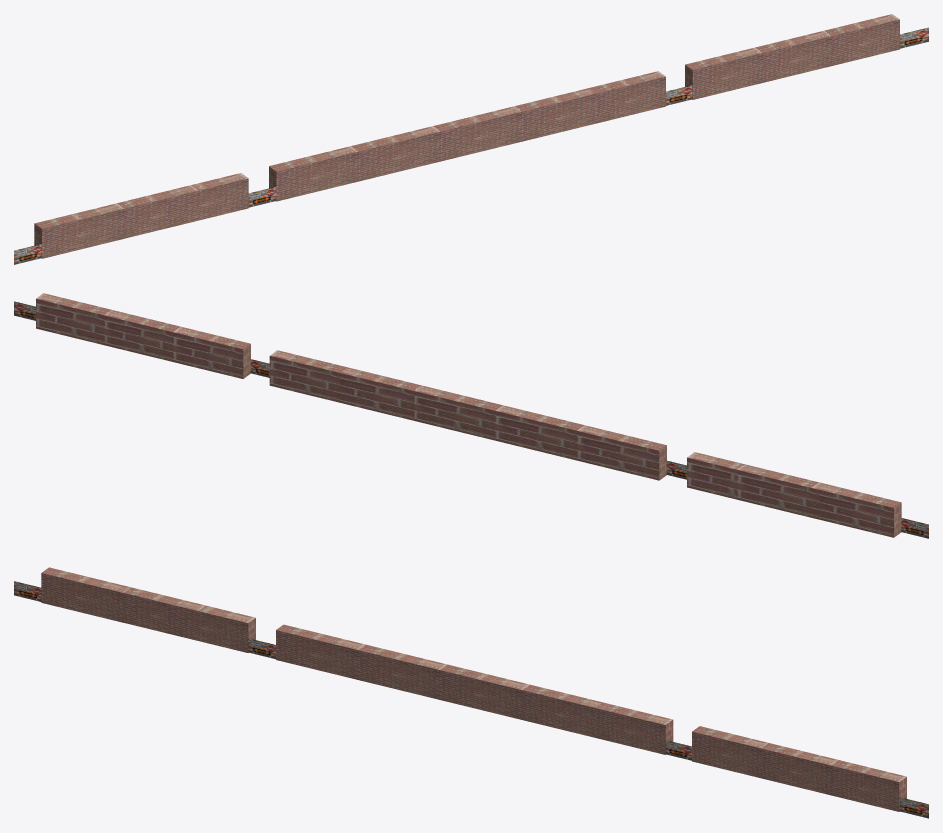
File: wall4.fbx
3 renders of one model, top to bottom at view 1: azimuth 30°, elevation 25°; view 2: azimuth 150°, elevation 25°; view 3: azimuth 330°, elevation 25°, orthographic.
Parts seen in each view (by area): view 1: pCube77, pCube80, pCube81, pCube82, pCube79, pCube83, pCube85, pCube84, pCube86, pCube87, pCube78; view 2: pCube80, pCube77, pCube81, pCube78, pCube82, pCube85, pCube83, pCube84, pCube86, pCube87, pCube79; view 3: pCube79, pCube80, pCube82, pCube77, pCube81, pCube83, pCube84, pCube87, pCube85, pCube86, pCube78.
Boxes of the visible parts, x1=… form: pCube77: x1=34, y1=203, x2=124, y2=258; pCube80: x1=269, y1=146, x2=358, y2=201; pCube81: x1=351, y1=126, x2=440, y2=181; pCube82: x1=433, y1=106, x2=522, y2=161; pCube79: x1=159, y1=173, x2=248, y2=228; pCube83: x1=514, y1=88, x2=595, y2=141; pCube85: x1=685, y1=47, x2=762, y2=99; pCube84: x1=588, y1=71, x2=665, y2=123; pCube86: x1=755, y1=30, x2=831, y2=82; pCube87: x1=824, y1=14, x2=899, y2=65; pCube78: x1=111, y1=185, x2=198, y2=238; pCube80: x1=576, y1=425, x2=666, y2=480; pCube77: x1=811, y1=482, x2=901, y2=537; pCube81: x1=495, y1=405, x2=583, y2=460; pCube78: x1=737, y1=464, x2=825, y2=519; pCube82: x1=414, y1=385, x2=502, y2=440; pCube85: x1=173, y1=326, x2=250, y2=378; pCube83: x1=333, y1=367, x2=421, y2=420; pCube84: x1=269, y1=350, x2=347, y2=402; pCube86: x1=103, y1=310, x2=179, y2=361; pCube87: x1=36, y1=293, x2=113, y2=345; pCube79: x1=687, y1=452, x2=776, y2=499; pCube79: x1=165, y1=598, x2=255, y2=652; pCube80: x1=276, y1=624, x2=365, y2=679; pCube82: x1=440, y1=664, x2=529, y2=719; pCube77: x1=41, y1=567, x2=131, y2=622; pCube81: x1=358, y1=644, x2=447, y2=699; pCube83: x1=522, y1=684, x2=609, y2=739; pCube84: x1=595, y1=702, x2=673, y2=754; pCube87: x1=829, y1=759, x2=906, y2=811; pCube85: x1=692, y1=726, x2=768, y2=778; pCube86: x1=761, y1=743, x2=838, y2=795; pCube78: x1=116, y1=585, x2=205, y2=632.
Size of the model in its own units: 350 by 10.93 by 5.13.
2 materials, 2 textured.
